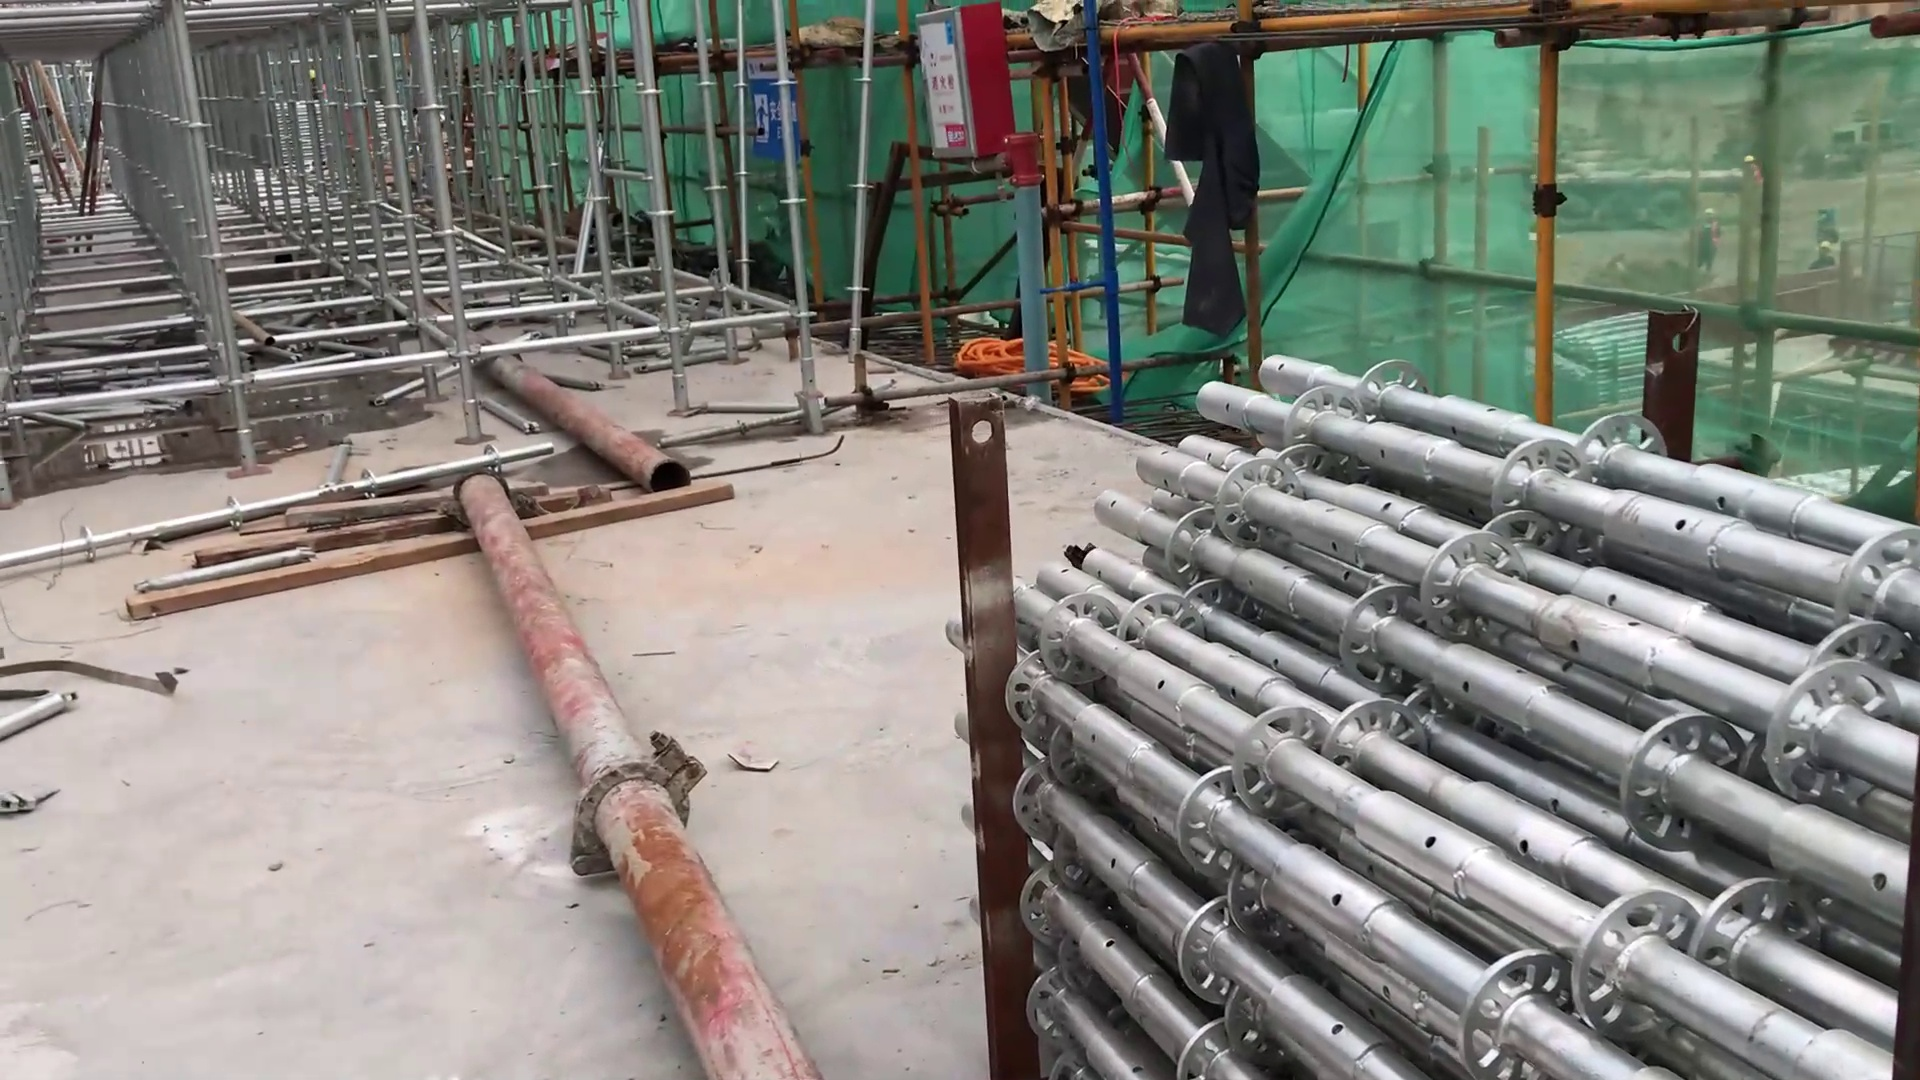scaffold: (1006, 327, 1920, 1071), (1555, 307, 1652, 404)
slogan: (733, 49, 804, 154)
